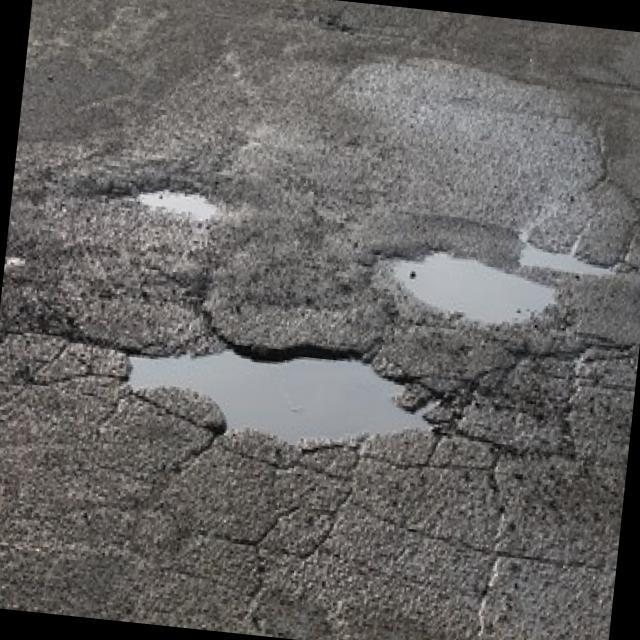Pothole: (110, 324, 441, 464)
